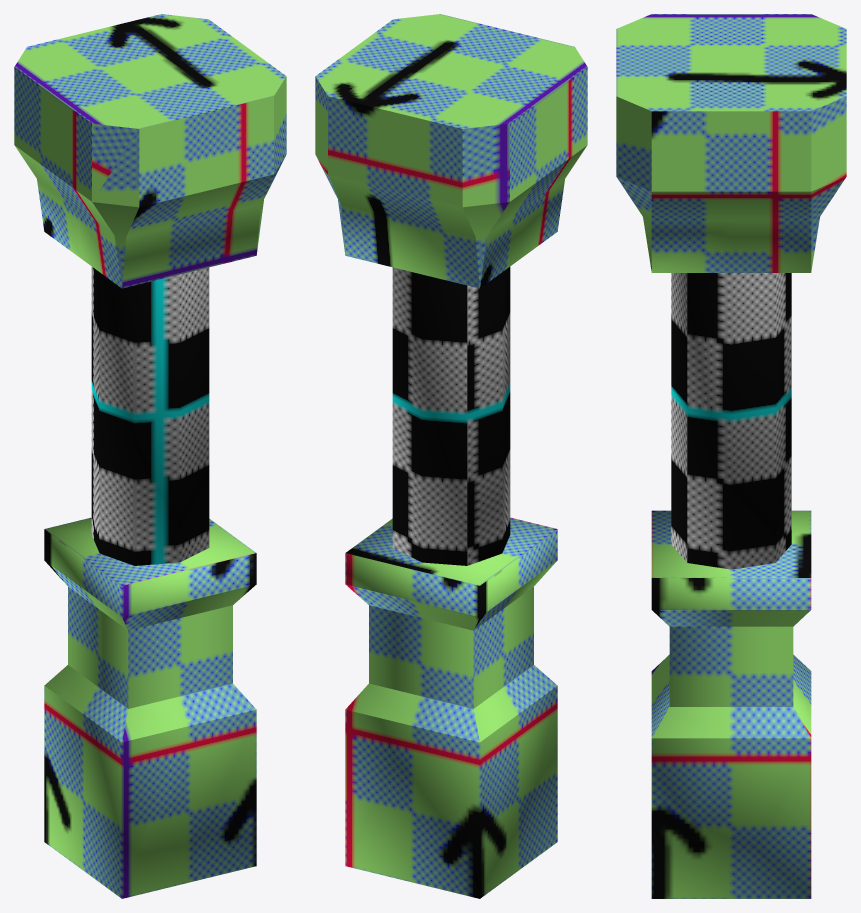
Rendered from pilar.obj.
3 renders of one model, left to right at view 1: azimuth 30°, elevation 25°; view 2: azimuth 150°, elevation 25°; view 3: azimuth 270°, elevation 25°, orthographic. The views are drawn at different scales.
Parts seen in each view (by area): view 1: pilar.004; view 2: pilar.004; view 3: pilar.004.
Boxes of the visible parts, x1=… form: pilar.004: x1=14, y1=14, x2=286, y2=898; pilar.004: x1=315, y1=14, x2=587, y2=898; pilar.004: x1=616, y1=14, x2=846, y2=898.
Size of the model in its own units: 2.6 by 10 by 2.6.
